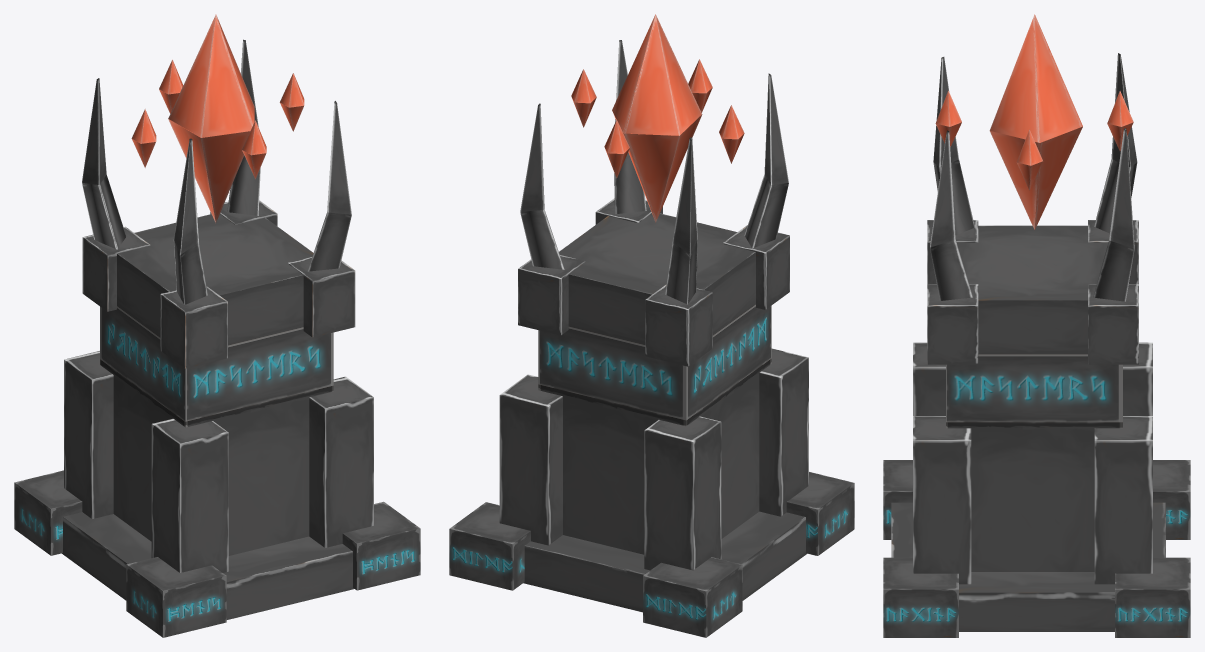
Rendered from magic_5.FBX.
The picture shows the model from 3 angles, left to right: view 1: azimuth 30°, elevation 25°; view 2: azimuth 150°, elevation 25°; view 3: azimuth 270°, elevation 25°; orthographic projection. The views are drawn at different scales.
Visible parts, largest first — view 1: Box576, Cone040, Cone039, Cone042, Cone043, Cone041; view 2: Box576, Cone040, Cone042, Cone041, Cone039, Cone043; view 3: Box576, Cone040, Cone042, Cone041, Cone043.
Part boxes in pixels (x1,y1,x2,y2): Box576: (14,39,420,637); Cone040: (168,14,254,222); Cone039: (131,109,156,167); Cone042: (279,73,304,131); Cone043: (242,120,266,179); Cone041: (159,59,183,113); Box576: (449,40,854,637); Cone040: (612,14,702,222); Cone042: (571,69,596,127); Cone041: (604,120,629,178); Cone039: (719,105,744,163); Cone043: (688,59,712,112); Box576: (883,53,1190,637); Cone040: (989,14,1082,229); Cone042: (1016,129,1042,190); Cone041: (1107,91,1133,151); Cone043: (935,91,961,146).
Size of the model in its own units: 44.79 by 89.97 by 44.81.
